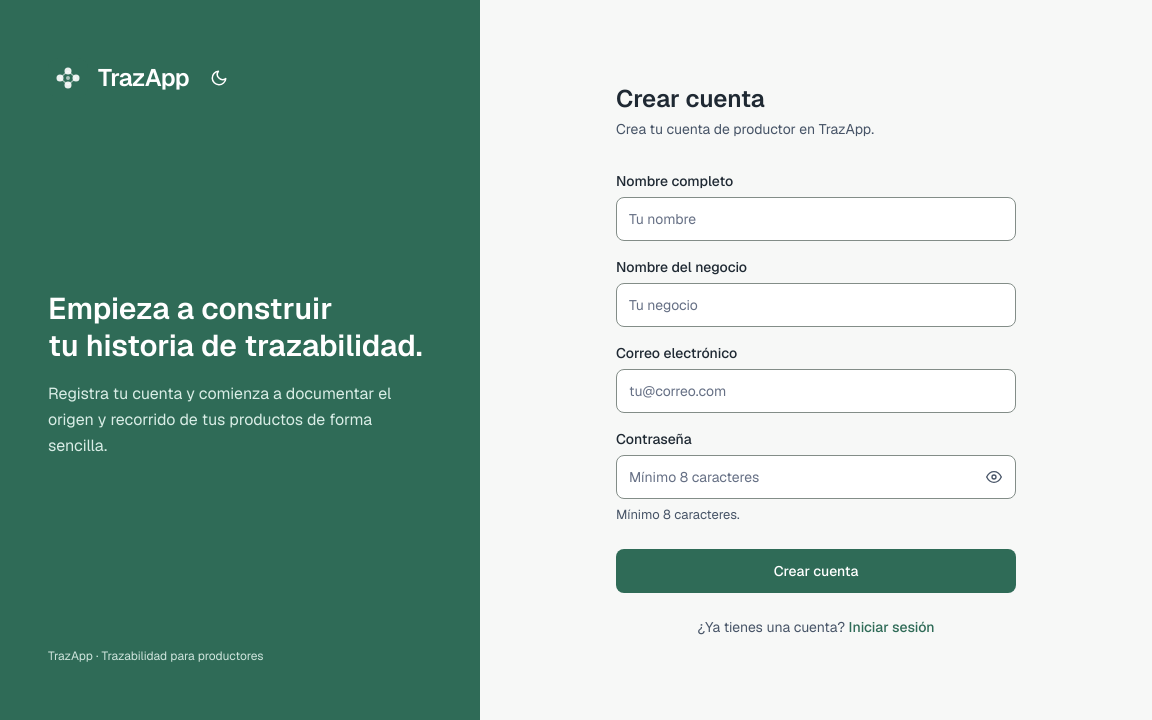
Registro HU12 › muestra error de correo duplicado
Expected: the heading "Crear cuenta" is shown, left=616, top=83, right=765, bottom=114
Type "Ana Perez" into the field labelled "Nombre completo". click: (816, 219)
box: left=616, top=197, right=1016, bottom=241
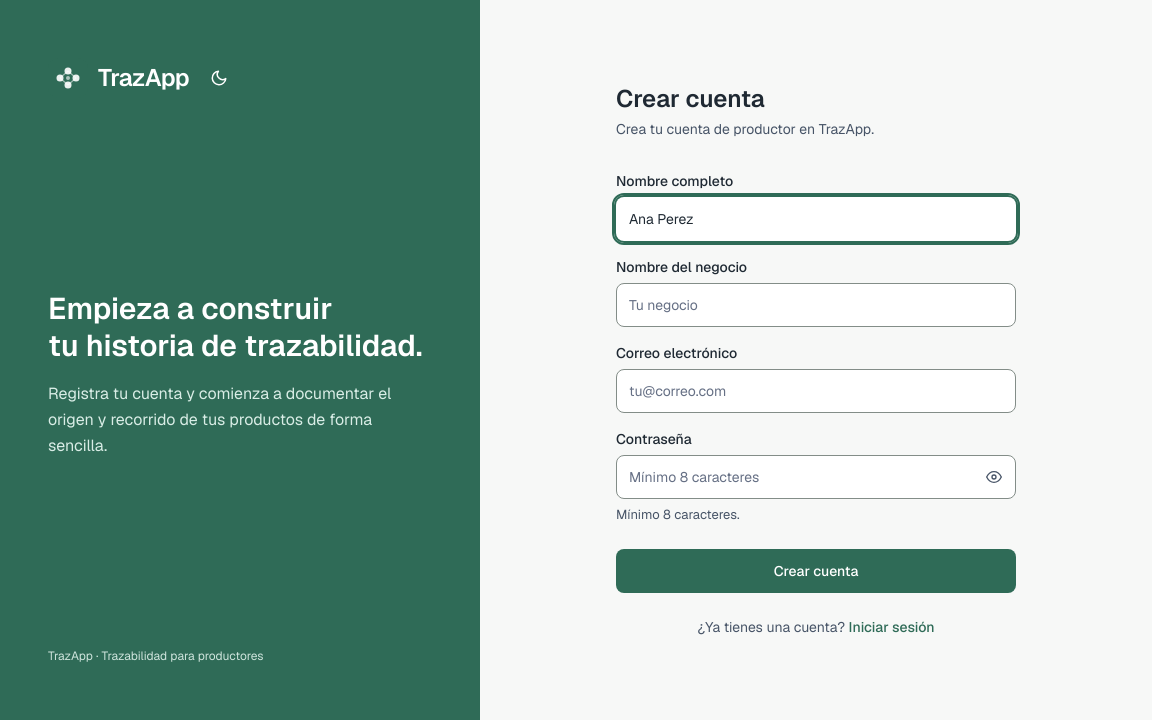
Type "Panaderia La Espiga" into the field labelled "Nombre del negocio". click: (816, 305)
box: left=616, top=283, right=1016, bottom=327
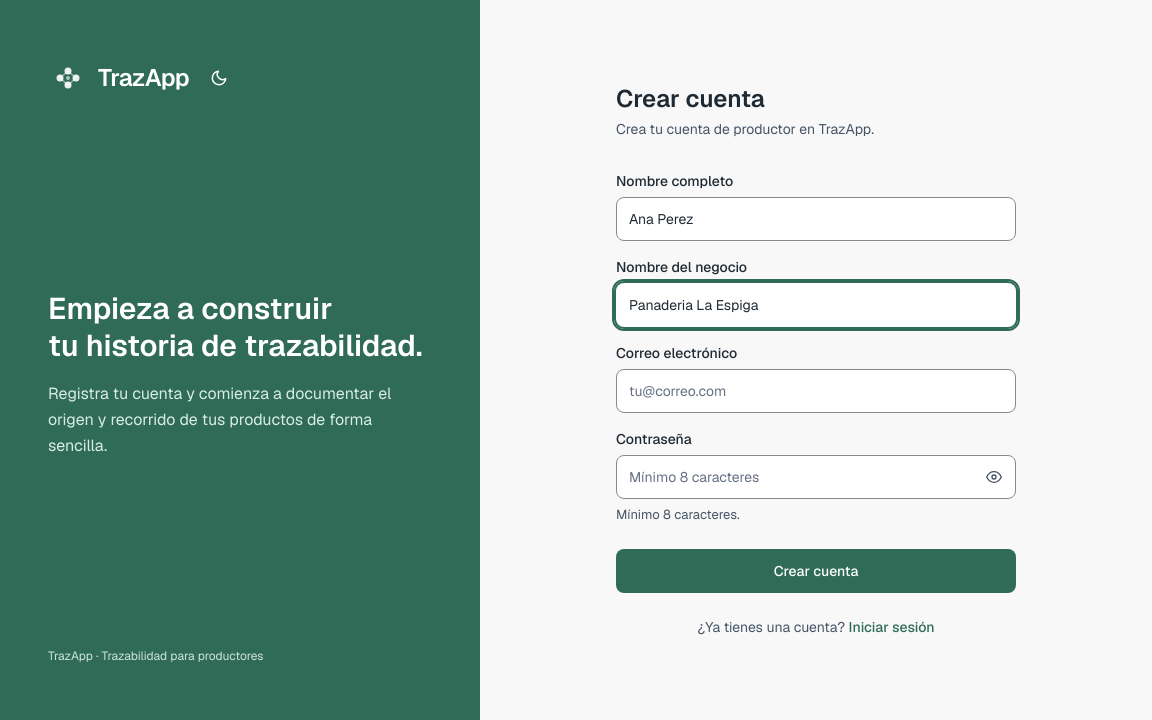
Type "ana@ejemplo.com" into the field labelled "Correo electrónico". click: (816, 391)
box: left=616, top=369, right=1016, bottom=413
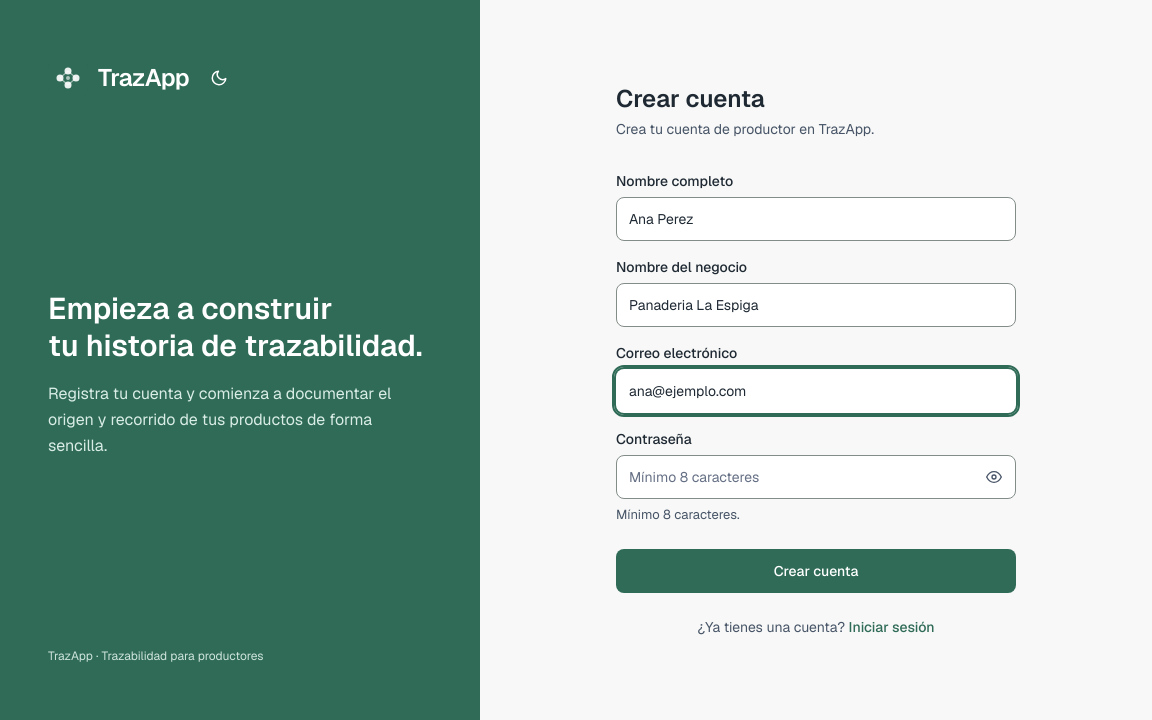
Type "SecretoProductor123!" into the password field labelled "Contraseña". click: (816, 477)
box: left=616, top=455, right=1016, bottom=499
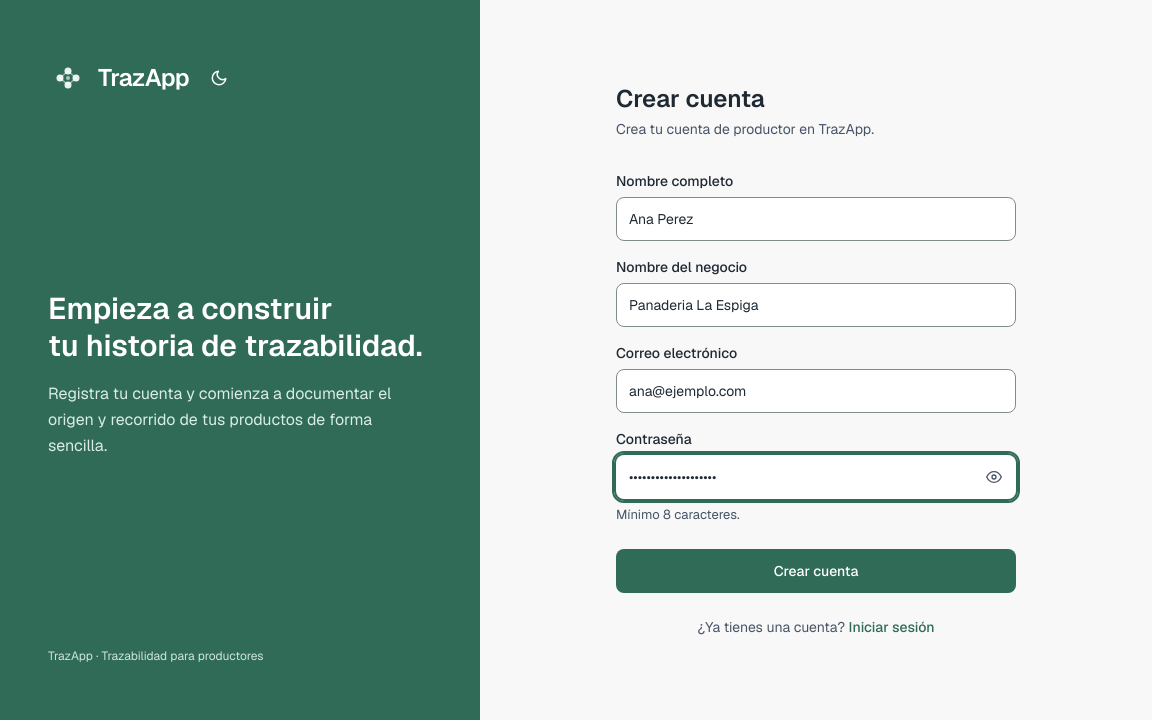
Click the button "Crear cuenta". click: (816, 571)
box: left=616, top=549, right=1016, bottom=593
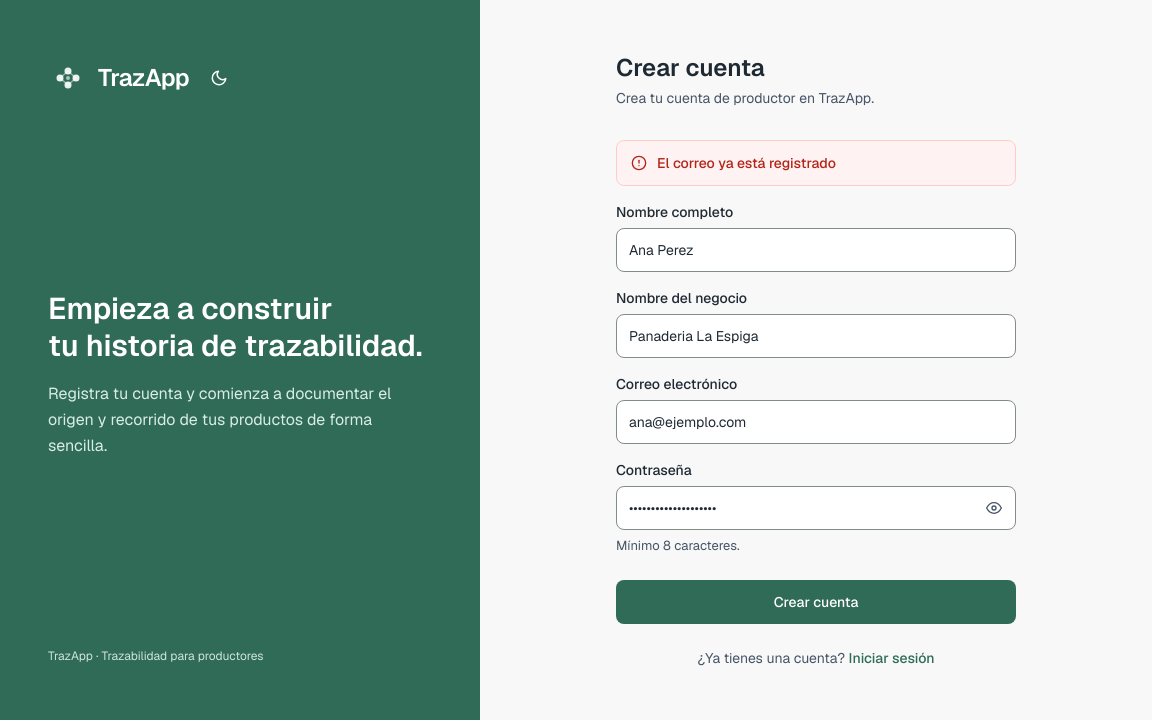
Result: the message reads "El correo ya está registrado" at left=657, top=154, right=836, bottom=172
